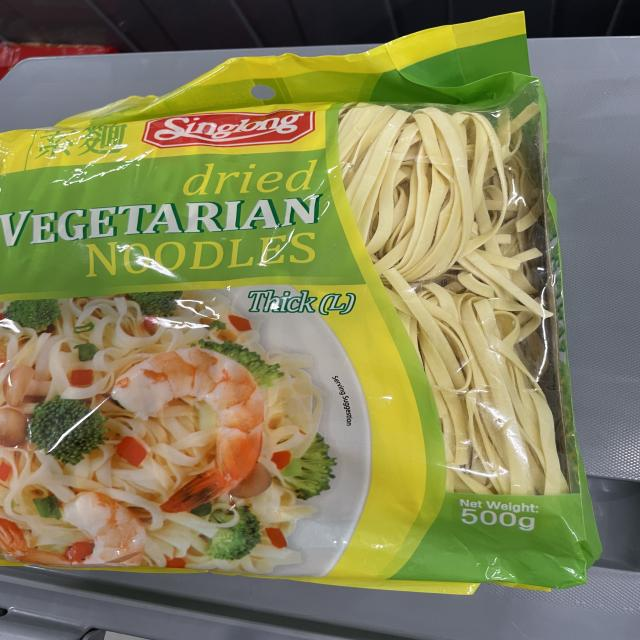object_name: (0, 97, 559, 586)
